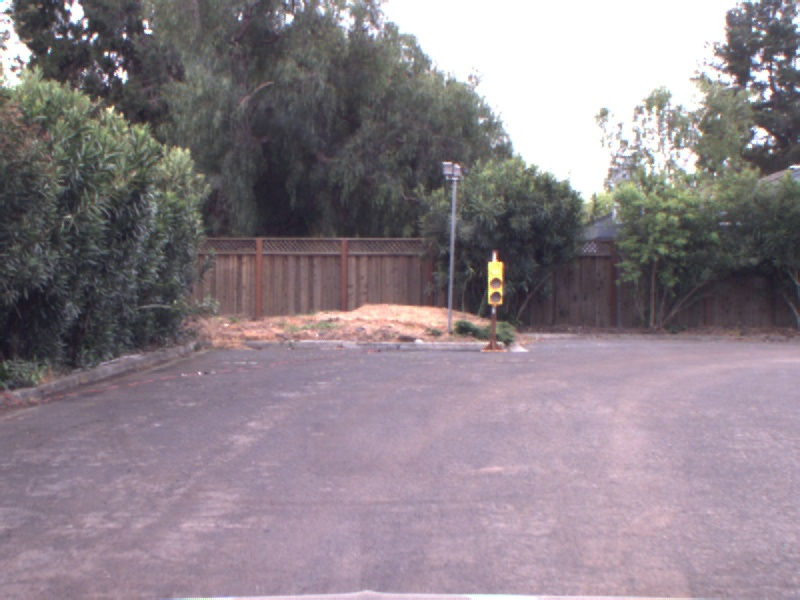red: (484, 258, 507, 309)
